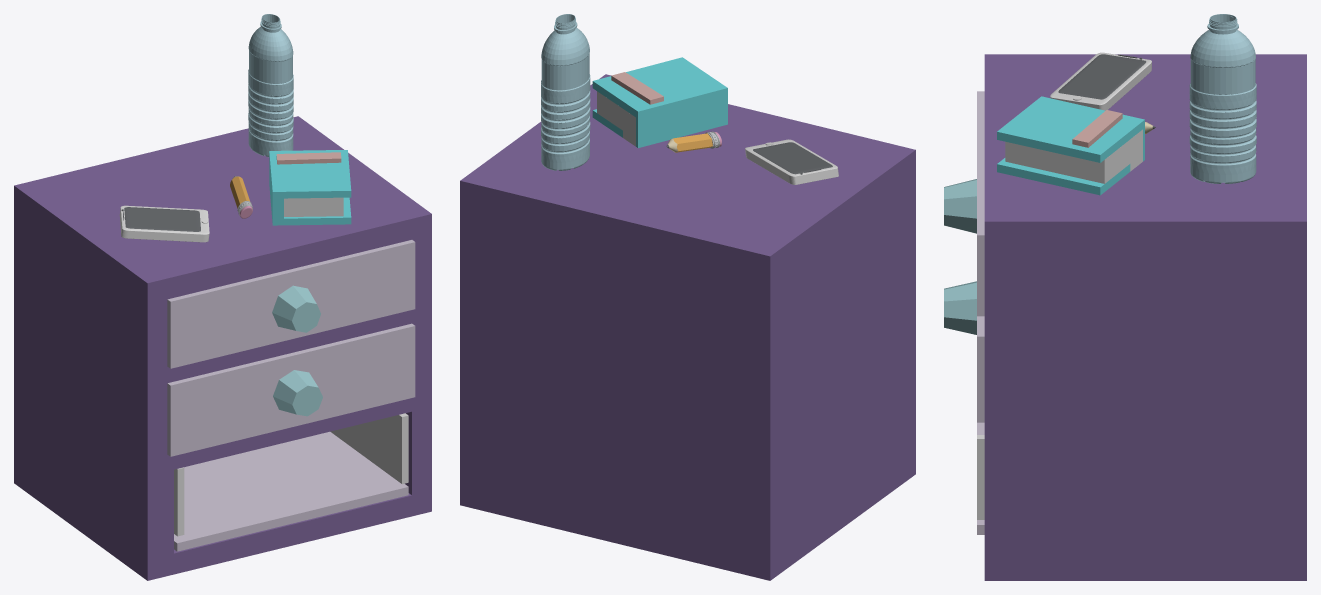
File: Side Table.glb
3 views of the same model, side by side, from view 1: azimuth 30°, elevation 25°; view 2: azimuth 150°, elevation 25°; view 3: azimuth 270°, elevation 25° (orthographic). The views are drawn at different scales.
Parts seen in each view (by area): view 1: Mesh_Mesh_head_geo.001_lambert2SG.001; view 2: Mesh_Mesh_head_geo.001_lambert2SG.001; view 3: Mesh_Mesh_head_geo.001_lambert2SG.001.
Boxes of the visible parts, x1,y1,x2,y2 form: Mesh_Mesh_head_geo.001_lambert2SG.001: (14, 14, 431, 580); Mesh_Mesh_head_geo.001_lambert2SG.001: (460, 14, 915, 580); Mesh_Mesh_head_geo.001_lambert2SG.001: (944, 14, 1306, 580).
Size of the model in its own units: 71 by 104 by 65.
